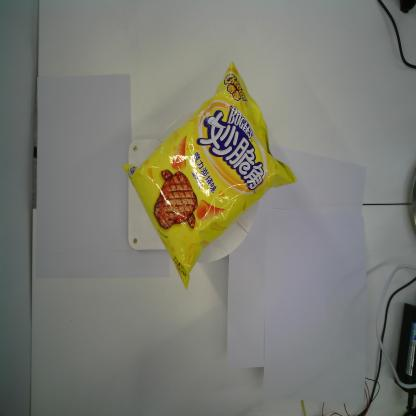Puffed Food: (122, 59, 298, 294)
